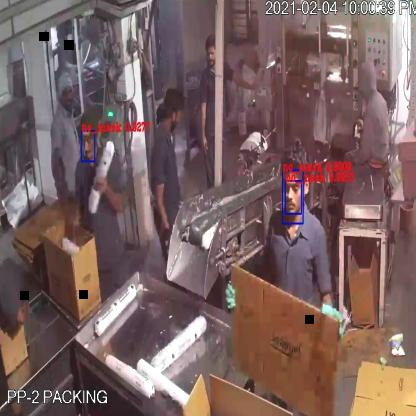no_glove: (92, 172, 128, 223), (152, 169, 171, 243), (229, 62, 262, 97), (198, 94, 213, 165)
